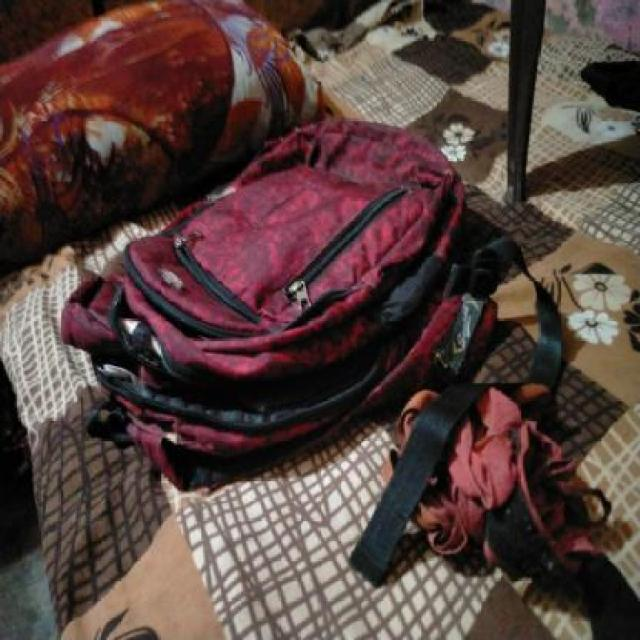backpack: (51, 114, 520, 494)
